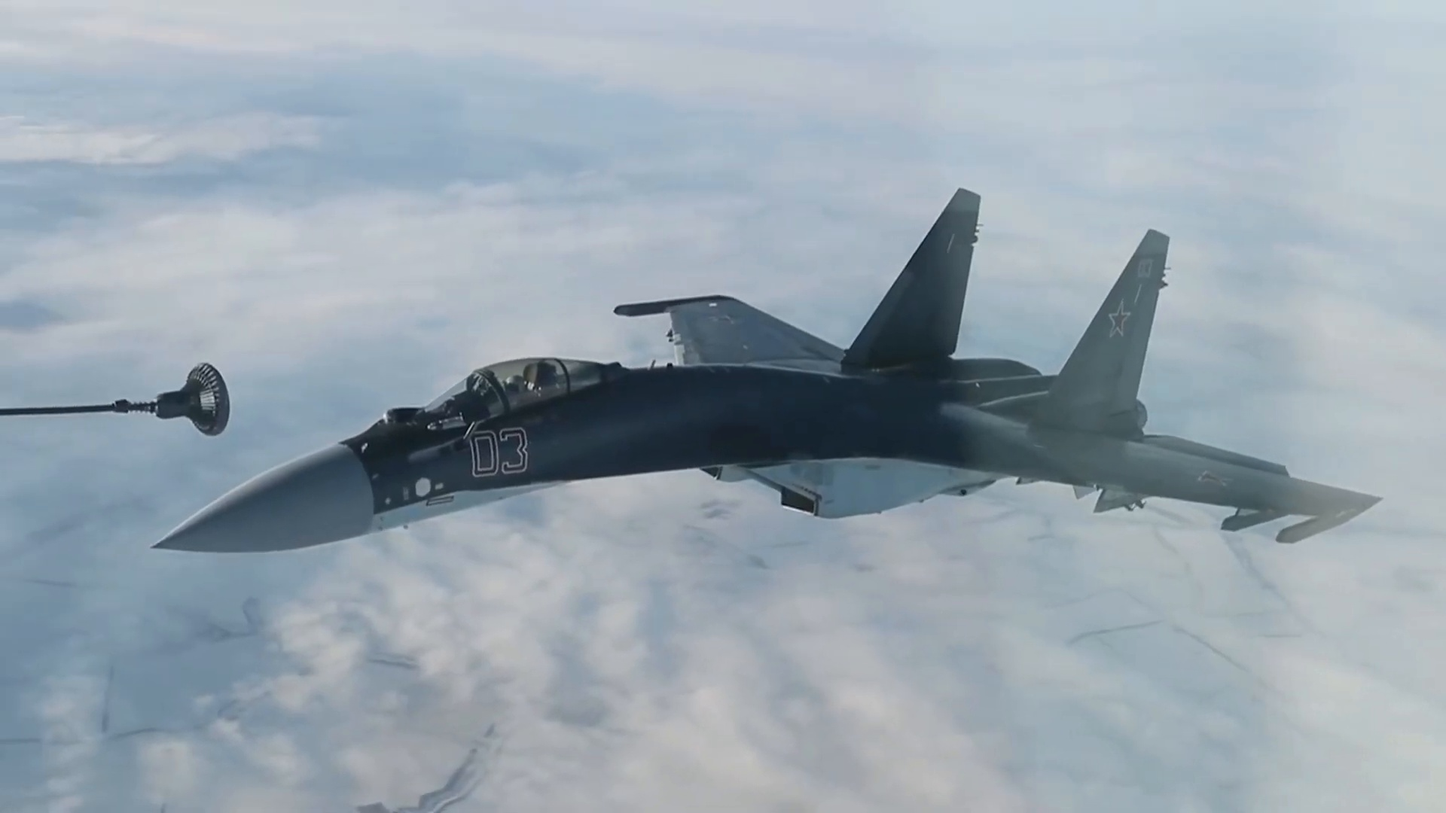Su35: (152, 188, 1383, 552)
